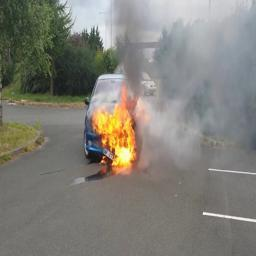fire: (92, 83, 138, 175)
